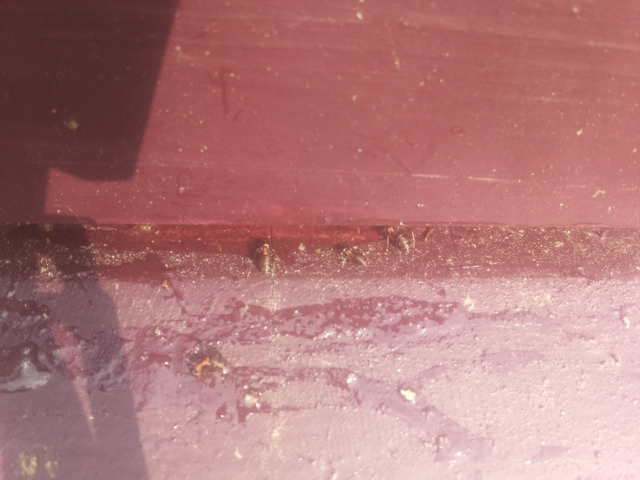ant: (186, 352, 233, 378), (337, 240, 371, 272), (256, 236, 275, 281)
